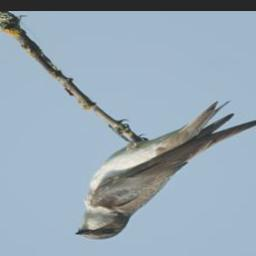Swallow: (73, 100, 256, 241)
